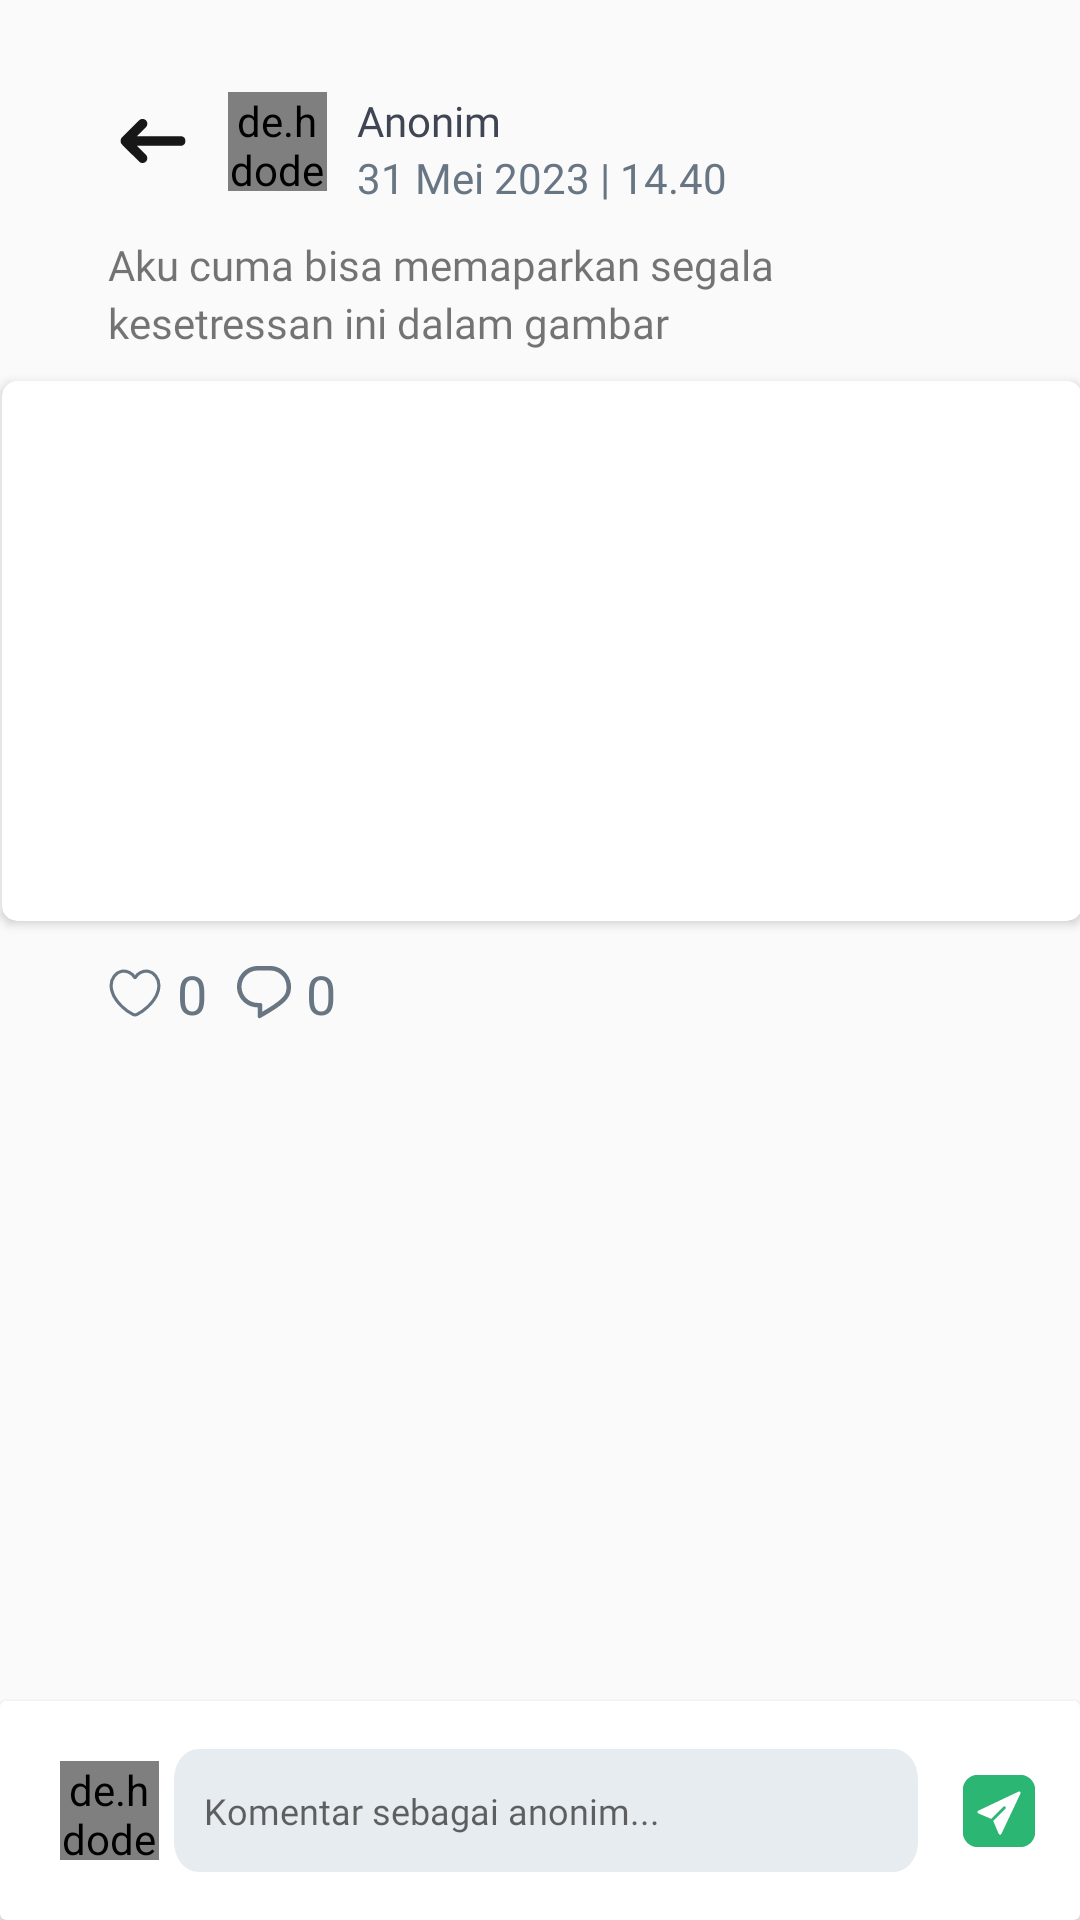

Icons on this 1080px x 1920px Android screen, each with its box as box(x1, y1, x2, y2):
arrow left: box(120, 119, 186, 163)
comment: box(237, 966, 291, 1019)
like: box(109, 969, 161, 1017)
send: box(963, 1775, 1035, 1847)
